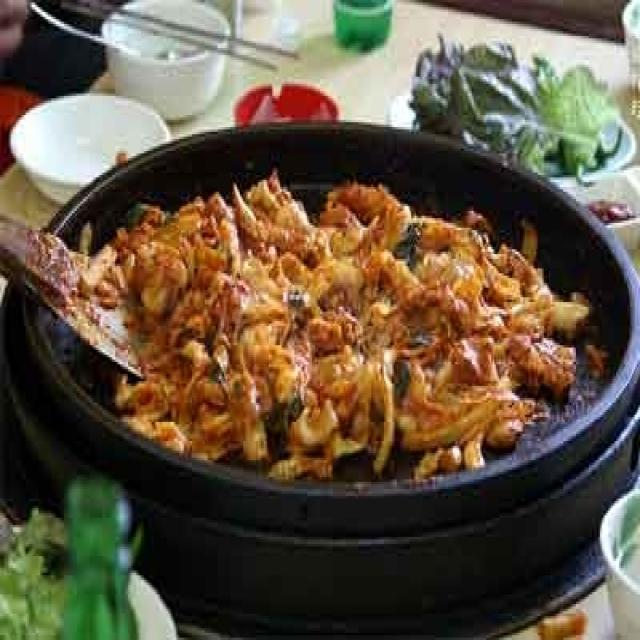牛肉菜式: (0, 168, 475, 550)
